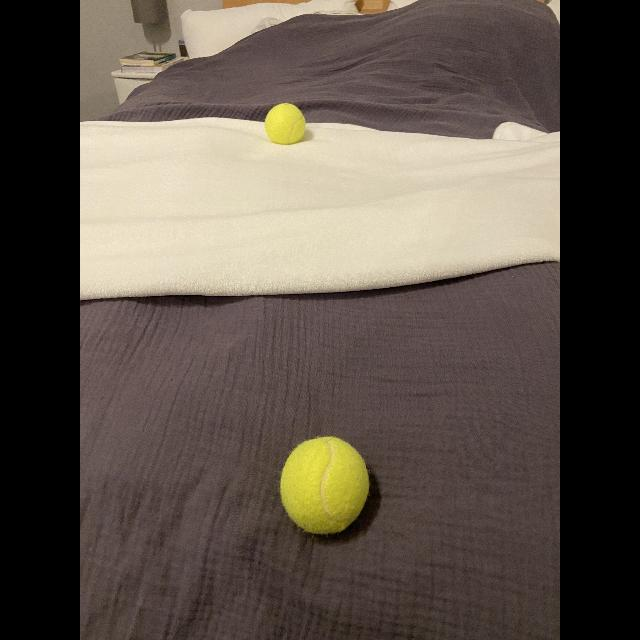Tennisball: (280, 437, 369, 534), (265, 103, 306, 145)
